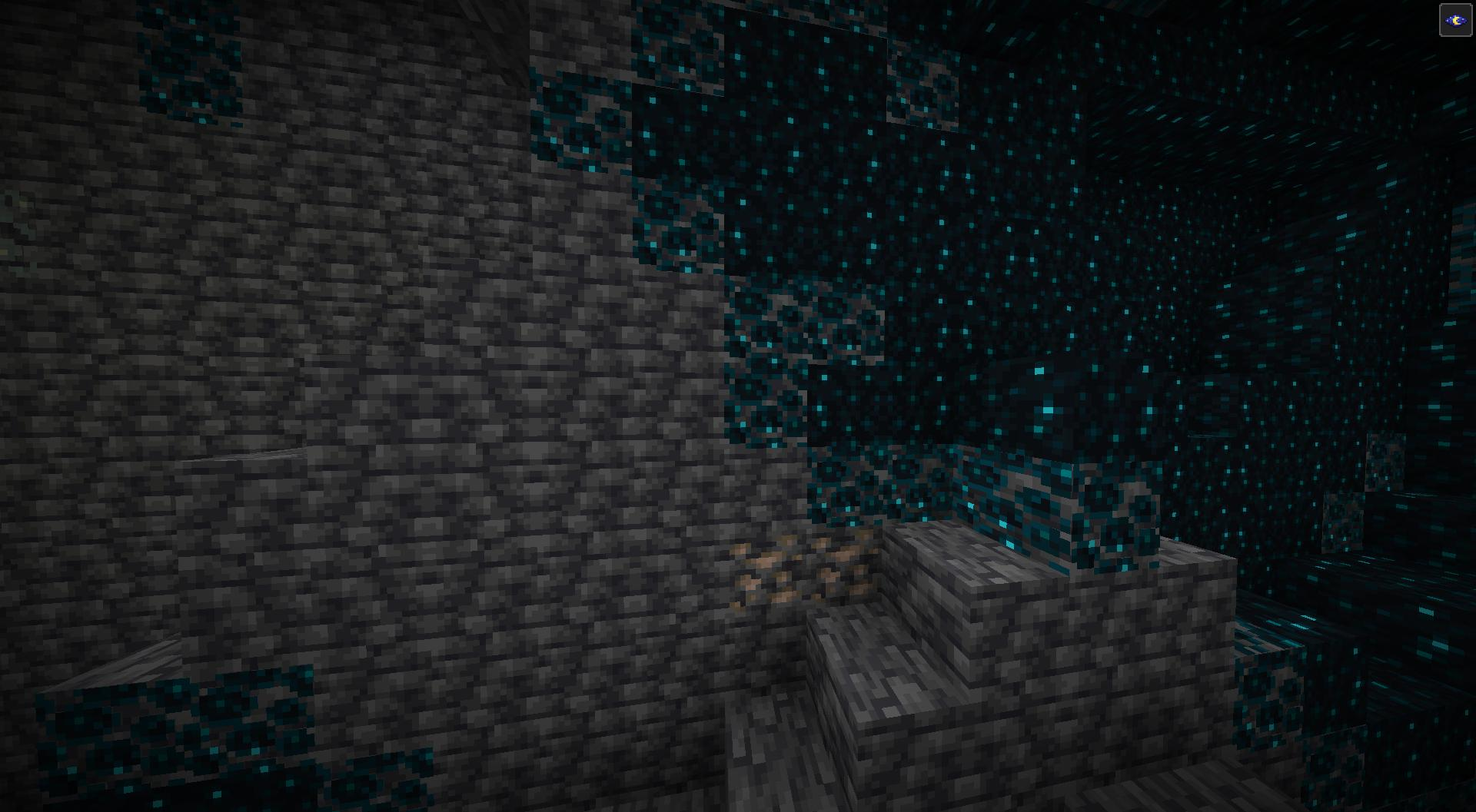iron ore: (726, 531, 809, 607), (809, 522, 885, 605)
